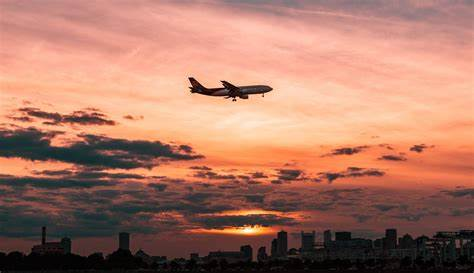aeroplane: (173, 69, 284, 110)
